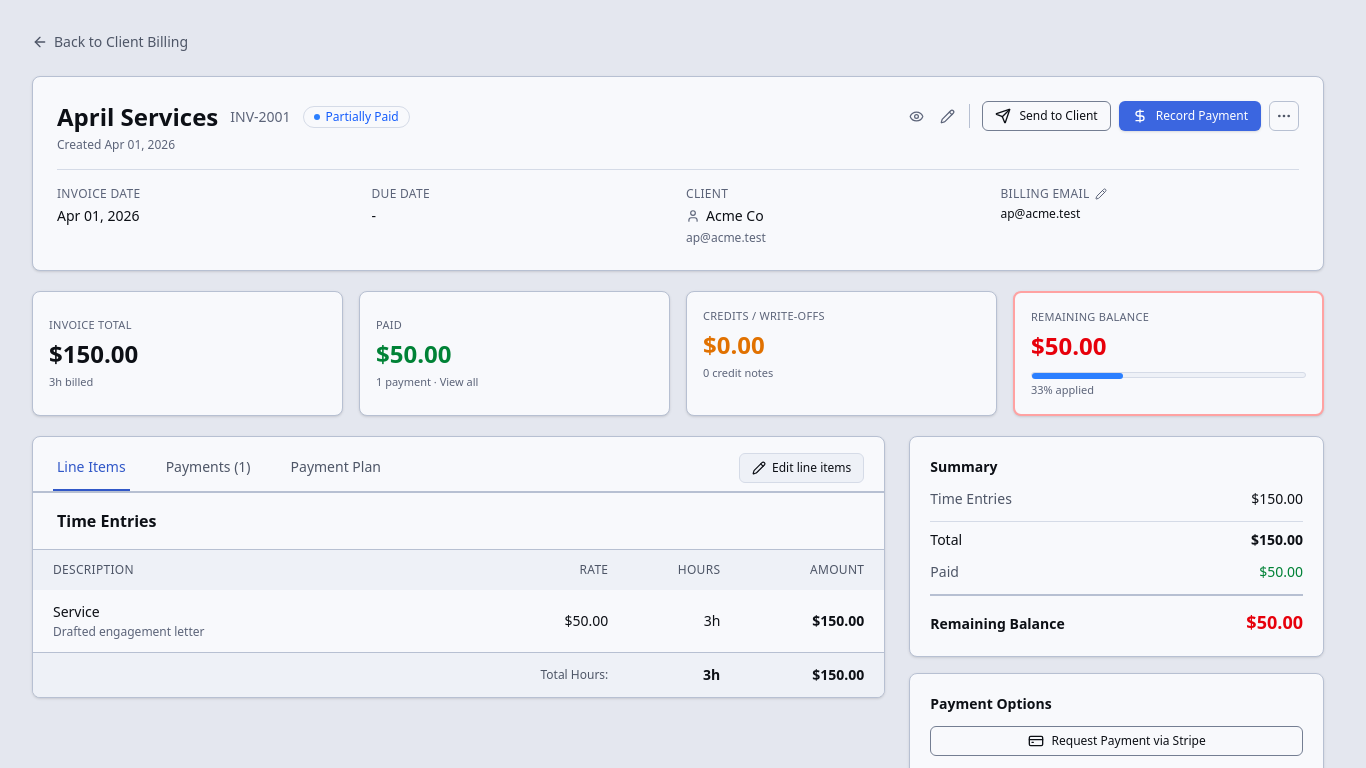
Scenario: a payment the client paid a processing fee on › tells the firm how much card fee to refund on a credit card payment
Click the button "Payments (1)": (208, 468) x1=162 y1=445 x2=254 y2=491
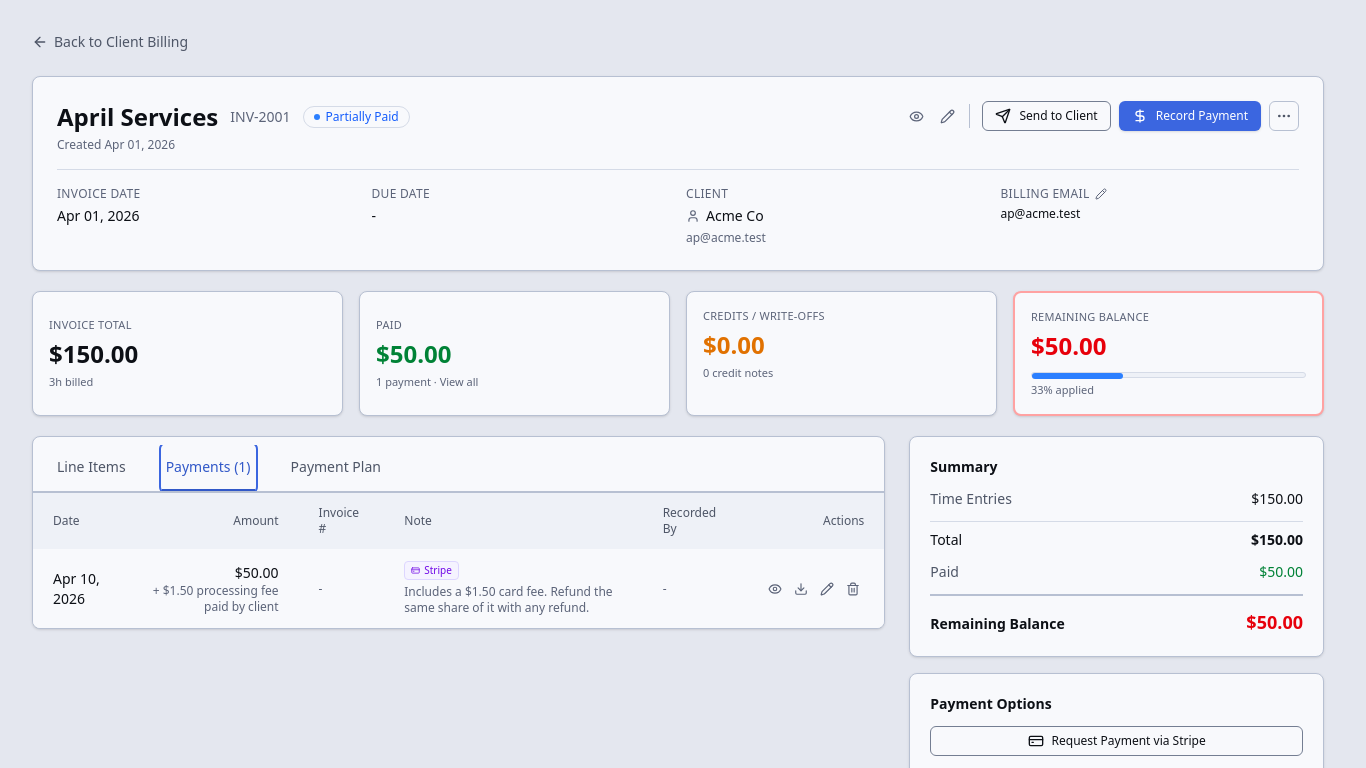
Check: the text "Includes a $1.50 card fee. Refund the same share of it with any refund." is shown, box x1=404 y1=584 x2=623 y2=616
